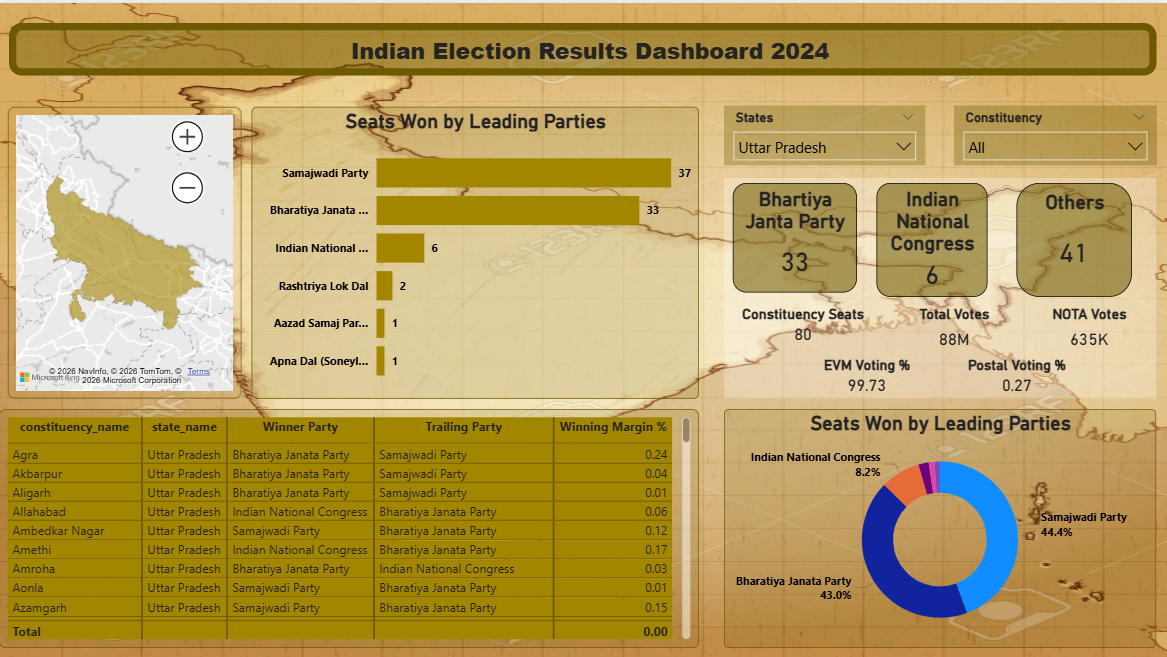

The page's visual inventory and layout, read from the dashboard file:
{"tool":"powerbi","page":{"name":"Page 1","canvas":[1280,720],"ordinal":0},"visuals":[{"type":"filledMap","fields":{"Category":["Election_Results_2024.state_name"]},"box":[10,114,256,320],"z":0},{"type":"clusteredBarChart","title":"Seats Won by Leading Parties","fields":{"Category":["Election_Results_2024.party_name"],"Y":["Count(Election_Results_2024.constituency_name)"]},"box":[276.7,113.3,490,320],"z":1000},{"type":"slicer","fields":{"Values":["Election_Results_2024.state_name"]},"box":[794.6,112.6,220.5,65.7],"z":2000},{"type":"slicer","fields":{"Values":["Election_Results_2024.constituency_name"]},"box":[1046.4,112.6,222.1,65.7],"z":3000},{"type":"donutChart","title":"Seats Won by Leading Parties","fields":{"Category":["Election_Results_2024.party_name"],"Y":["Election_Results_2024.Leading Party Vote Share %"]},"box":[795,445,473.3,261.7],"z":4000},{"type":"tableEx","title":"Seats Won by Leading Parties","fields":{"Values":["Election_Results_2024.constituency_name","Election_Results_2024.state_name","Election_Results_2024.Winner Party","Election_Results_2024.Trailing Party","Election_Results_2024.Winning Margin %"]},"box":[0,445.7,767.1,261.4],"z":5000},{"type":"textbox","title":"Indian Election Results Dashboard 2024","box":[10.9,21.9,1257.6,57.9],"z":6000},{"type":"textbox","box":[795,191.7,473.3,241.7],"z":7000},{"type":"card","title":"Bhartiya Janta Party","fields":{"Values":["Count(Election_Results_2024.constituency_name)"]},"box":[803.4,196.7,135.9,120.4],"z":8000},{"type":"card","title":"Indian National Congress","fields":{"Values":["Count(Election_Results_2024.constituency_name)"]},"box":[962,196.7,121.6,125.2],"z":9000},{"type":"card","title":"Others","fields":{"Values":["Count(Election_Results_2024.constituency_name)"]},"box":[1114.5,196.7,126.4,125.2],"z":10000},{"type":"card","title":"Constituency Seats","fields":{"Values":["Count(Election_Results_2024.constituency_name)"]},"box":[801.7,331.7,160,45],"z":11000},{"type":"card","title":"Total Votes","fields":{"Values":["Sum(Election_Results_2024.total_votes)"]},"box":[966.7,331.7,160,56.7],"z":12000},{"type":"card","title":"NOTA Votes","fields":{"Values":["Sum(Election_Results_2024.EVM_votes)"]},"box":[1115,331.7,160,56.7],"z":13000},{"type":"card","title":"EVM Voting %","fields":{"Values":["Election_Results_2024.EVM VOte %"]},"box":[871.7,388.3,160,45],"z":14000},{"type":"card","title":"Postal Voting %","fields":{"Values":["Election_Results_2024.Postal Votes %"]},"box":[1035,388.3,160,45],"z":15000}]}

Visuals, with their boxes in screenshot pixels (x1, y1, x2, y2), scaled from the page's 1280x720 canvas onto the 1167x657 screenshot:
filledMap - Election_Results_2024.state_name: box(9, 104, 243, 396)
"Seats Won by Leading Parties" clusteredBarChart: box(252, 103, 699, 395)
slicer - Election_Results_2024.state_name: box(724, 103, 925, 163)
slicer - Election_Results_2024.constituency_name: box(954, 103, 1157, 163)
"Seats Won by Leading Parties" donutChart: box(725, 406, 1156, 645)
"Seats Won by Leading Parties" tableEx: box(0, 407, 699, 645)
"Indian Election Results Dashboard 2024" textbox: box(10, 20, 1157, 73)
textbox: box(725, 175, 1156, 395)
"Bhartiya Janta Party" card: box(732, 179, 856, 289)
"Indian National Congress" card: box(877, 179, 988, 294)
"Others" card: box(1016, 179, 1131, 294)
"Constituency Seats" card: box(731, 303, 877, 344)
"Total Votes" card: box(881, 303, 1027, 354)
"NOTA Votes" card: box(1017, 303, 1162, 354)
"EVM Voting %" card: box(795, 354, 941, 395)
"Postal Voting %" card: box(944, 354, 1090, 395)
